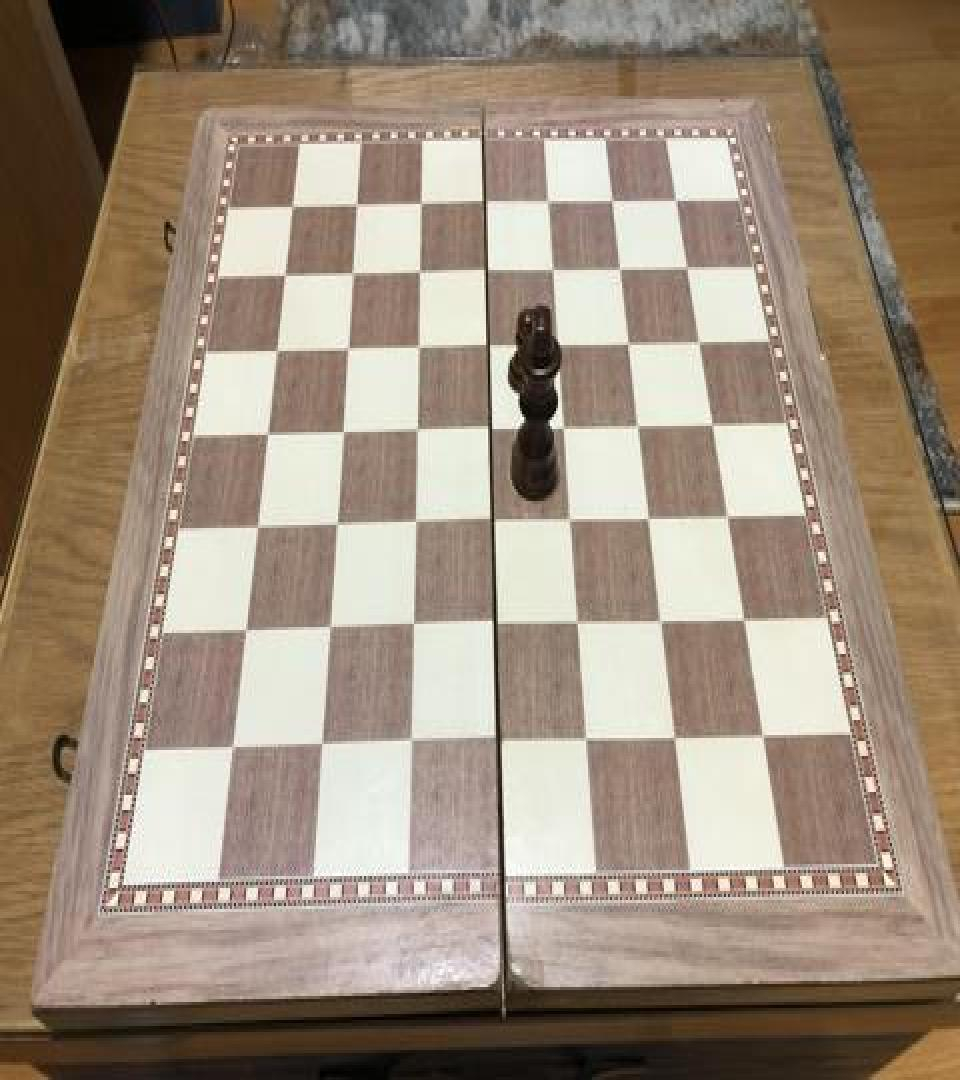xcorner: (728, 601, 752, 638), (398, 610, 422, 647), (396, 727, 420, 764), (661, 183, 685, 219), (598, 183, 622, 219), (534, 184, 558, 220), (471, 184, 495, 220), (407, 186, 431, 222), (672, 250, 696, 286), (605, 250, 629, 286), (539, 252, 563, 288), (473, 254, 497, 290), (406, 255, 430, 291), (339, 255, 363, 291), (272, 256, 296, 292), (683, 324, 707, 360), (614, 326, 638, 362), (544, 327, 568, 363), (404, 330, 428, 366), (334, 332, 358, 368), (263, 332, 287, 368), (697, 406, 721, 442), (624, 408, 648, 444), (550, 410, 574, 446), (476, 411, 500, 447), (328, 414, 352, 450), (254, 416, 278, 452), (711, 498, 735, 534), (634, 501, 658, 537), (557, 502, 581, 538), (479, 504, 503, 540), (401, 506, 425, 542), (322, 507, 346, 543), (243, 510, 267, 546), (646, 603, 670, 639), (564, 606, 588, 642), (481, 608, 505, 644), (315, 612, 339, 648), (231, 614, 255, 650), (747, 717, 771, 753), (659, 720, 683, 756), (572, 723, 596, 759), (484, 724, 508, 760), (307, 730, 331, 766), (218, 732, 242, 768), (343, 188, 367, 223), (279, 188, 303, 223), (474, 329, 498, 364), (403, 413, 427, 448)
